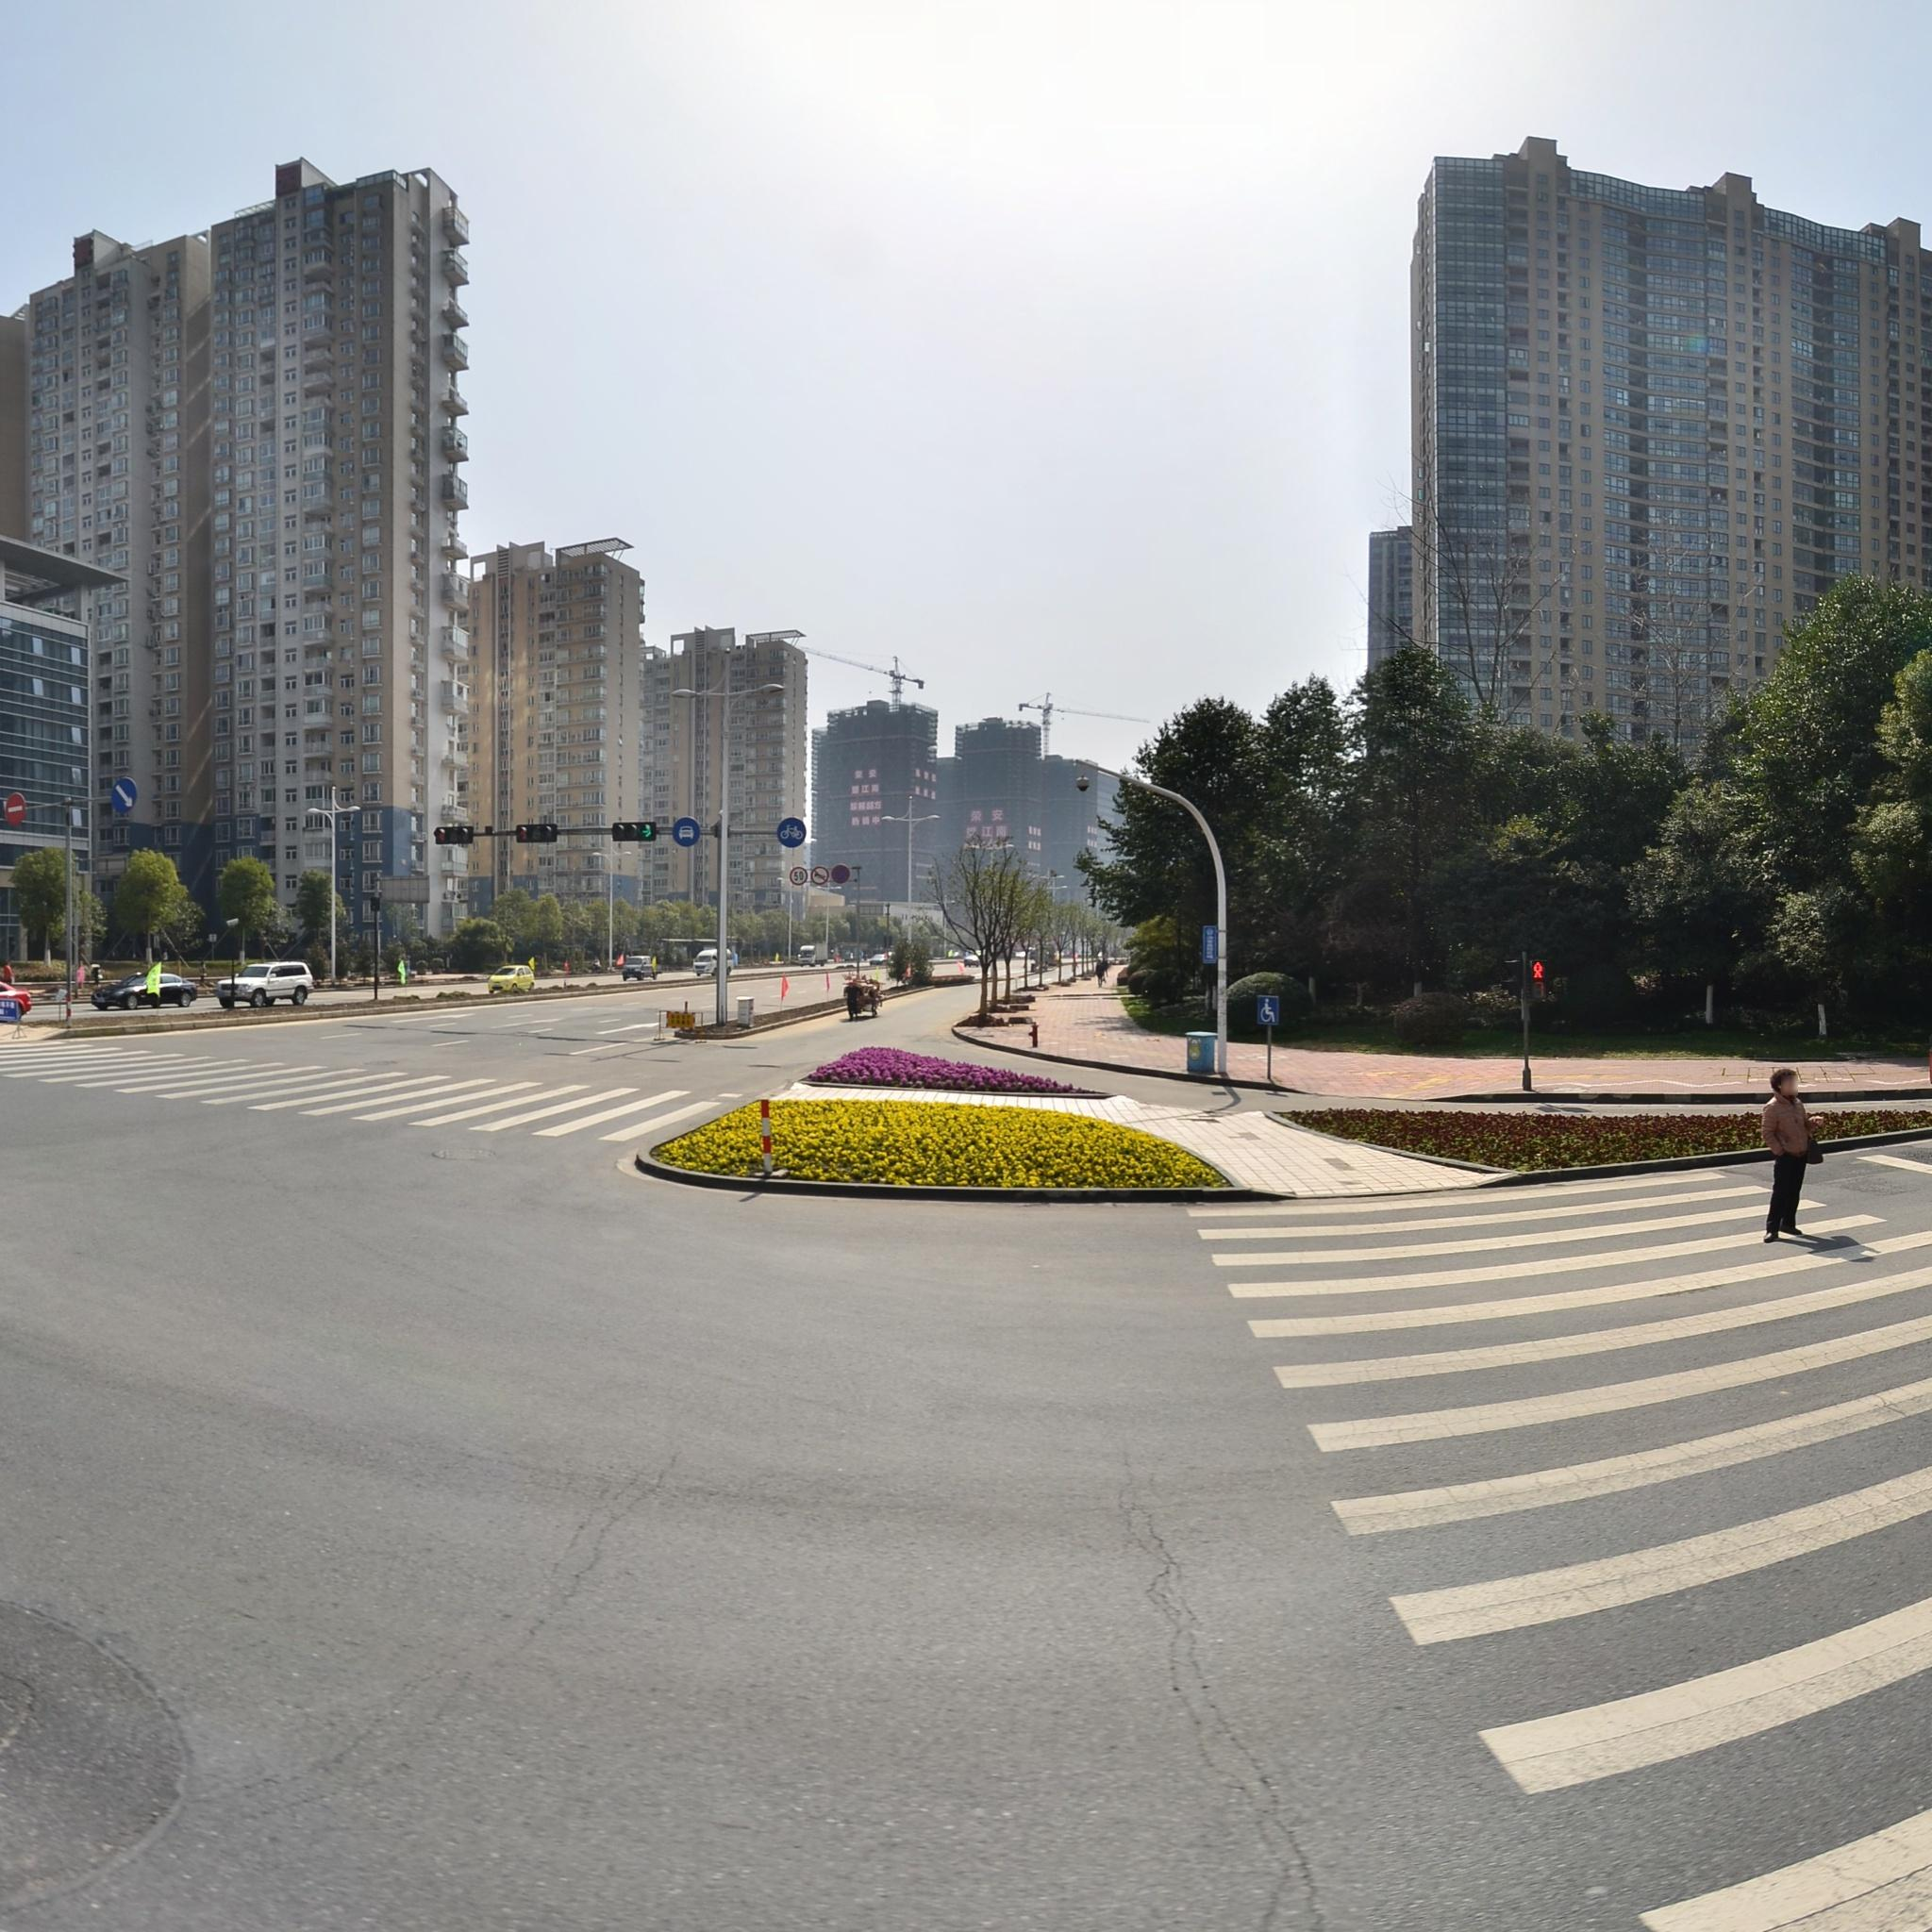i2: (777, 814, 807, 849)
i4: (672, 816, 699, 844)
i5: (111, 777, 136, 809)
p11: (812, 865, 828, 885)
pl50: (789, 865, 805, 885)
pn: (833, 863, 849, 885)
pne: (5, 794, 30, 824)
